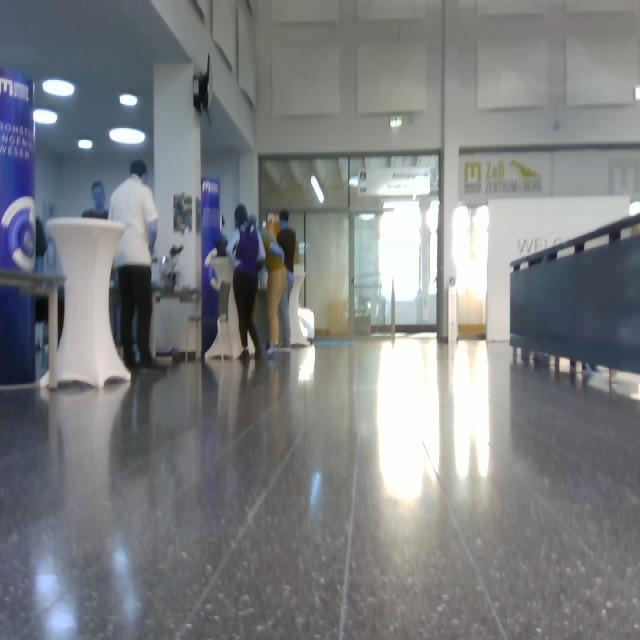door: (305, 209, 350, 340)
light bulb: (109, 126, 146, 145), (42, 78, 75, 97), (426, 200, 440, 233), (473, 205, 490, 232), (310, 174, 325, 204), (33, 108, 58, 125), (119, 93, 138, 106), (629, 200, 640, 217), (78, 139, 93, 151), (389, 116, 403, 128)
person: (108, 158, 167, 372), (227, 204, 267, 361), (260, 219, 286, 355), (277, 209, 297, 349), (81, 181, 109, 220)
pillar: (46, 216, 132, 389)
tiled floor: (2, 333, 639, 638)
